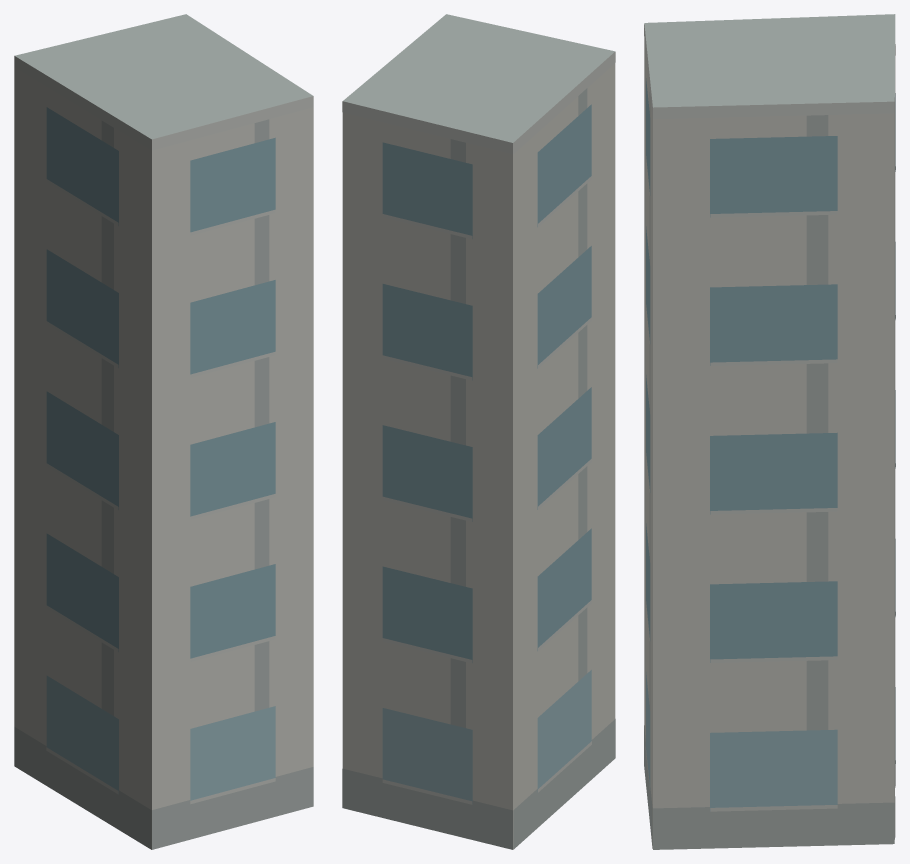
File: survey-upis-32597512.glb
3 views of the same model, side by side, from view 1: azimuth 30°, elevation 25°; view 2: azimuth 150°, elevation 25°; view 3: azimuth 270°, elevation 25° (orthographic). The views are drawn at different scales.
Parts seen in each view (by area): view 1: survey-upis-32597512.tmp; view 2: survey-upis-32597512.tmp; view 3: survey-upis-32597512.tmp.
Part boxes in pixels (left/top/right/bottom): survey-upis-32597512.tmp: left=14, top=14, right=313, bottom=849; survey-upis-32597512.tmp: left=342, top=14, right=615, bottom=849; survey-upis-32597512.tmp: left=644, top=14, right=895, bottom=849.
Bounding box in the file's own units: 4.13 × 15.25 × 4.69.
